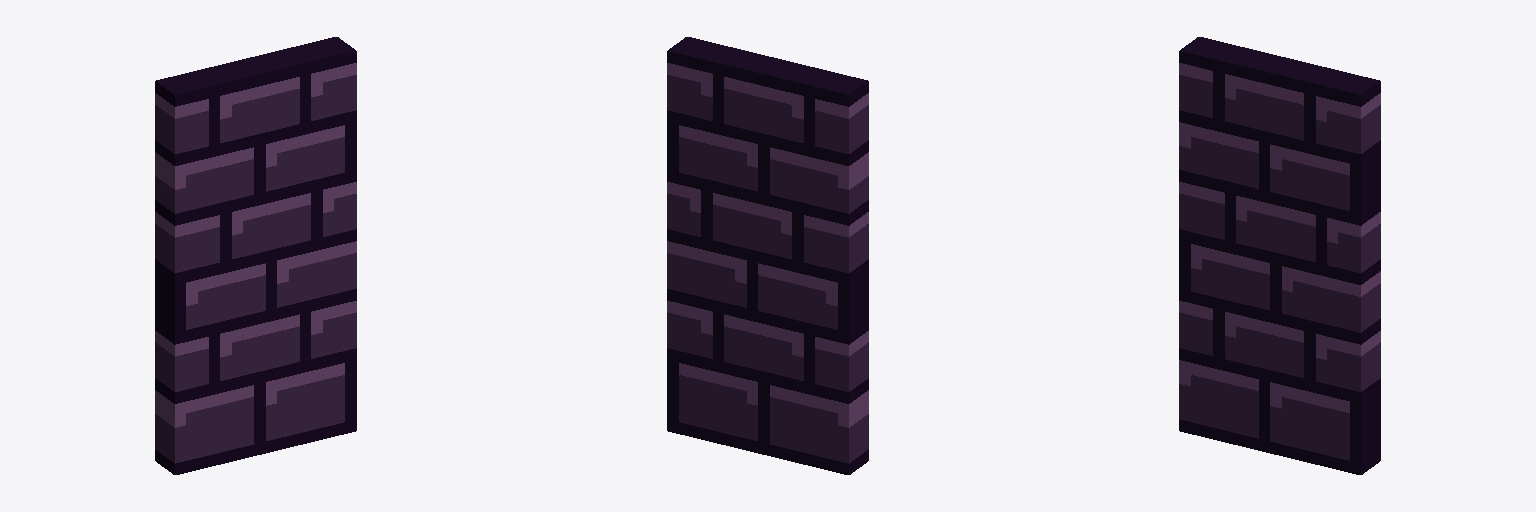
3 views of the same model, side by side, from view 1: azimuth 30°, elevation 25°; view 2: azimuth 150°, elevation 25°; view 3: azimuth 330°, elevation 25° (orthographic).
Visible parts, largest first — view 1: object 1; view 2: object 1; view 3: object 1.
Boxes of the visible parts, x1,y1,x2,y2 form: object 1: [155, 37, 356, 474]; object 1: [667, 37, 868, 474]; object 1: [1179, 37, 1380, 474].
Size of the model in its own units: 1.6 by 3.2 by 0.3.
1 materials, 1 textured.